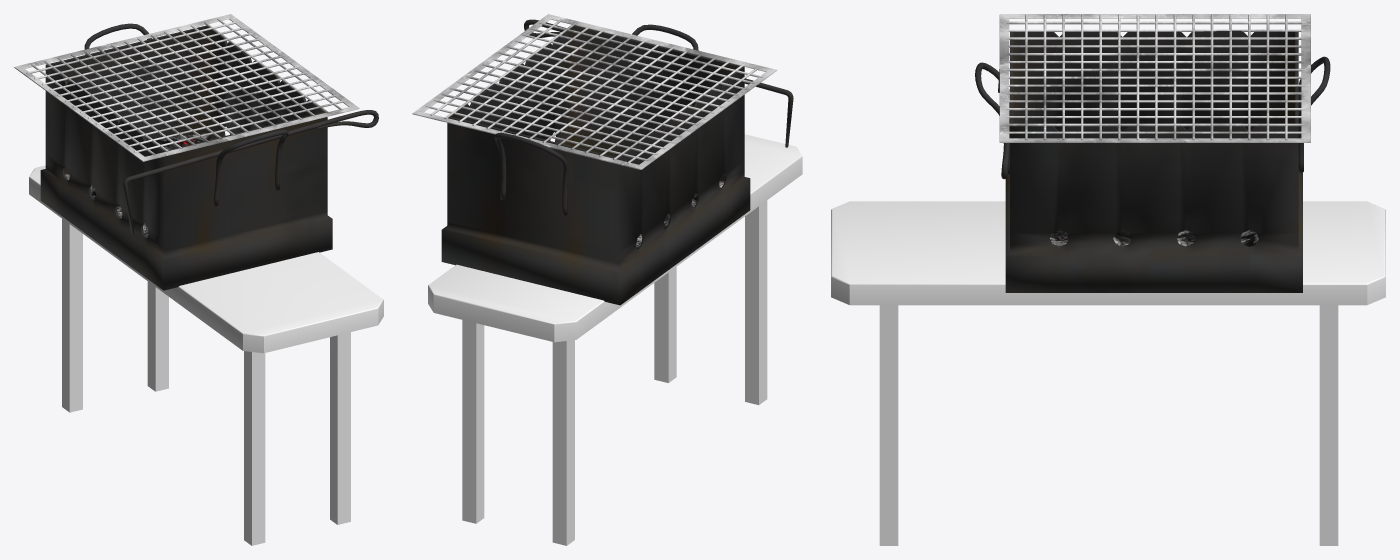
Rendered from scene_barbecue.glb.
The picture shows the model from 3 angles, left to right: view 1: azimuth 30°, elevation 25°; view 2: azimuth 150°, elevation 25°; view 3: azimuth 270°, elevation 25°; orthographic projection. The views are drawn at different scales.
Parts seen in each view (by area): view 1: BBQ_BBQ_0, 立方体, 铁架1, 铁架1.001, BBQ_BBQ_Coals_0; view 2: BBQ_BBQ_0, 立方体, 铁架1, 铁架1.001; view 3: BBQ_BBQ_0, 立方体, 铁架1, 铁架1.001, BBQ_BBQ_Coals_0.
Part boxes in pixels (<box>): BBQ_BBQ_0: <box>40,23,378,290</box>; 立方体: <box>29,165,383,545</box>; 铁架1: <box>26,18,346,155</box>; 铁架1.001: <box>14,14,359,161</box>; BBQ_BBQ_Coals_0: <box>65,133,211,237</box>; BBQ_BBQ_0: <box>441,19,793,305</box>; 立方体: <box>428,134,802,545</box>; 铁架1: <box>425,19,762,163</box>; 铁架1.001: <box>412,14,776,169</box>; BBQ_BBQ_0: <box>975,30,1330,292</box>; 立方体: <box>831,201,1385,545</box>; 铁架1: <box>1006,14,1304,140</box>; 铁架1.001: <box>999,14,1310,142</box>; BBQ_BBQ_Coals_0: <box>1050,230,1258,246</box>.
Size of the model in its own units: 8.01 by 11.17 by 12.49.
4 materials, 3 textured.
